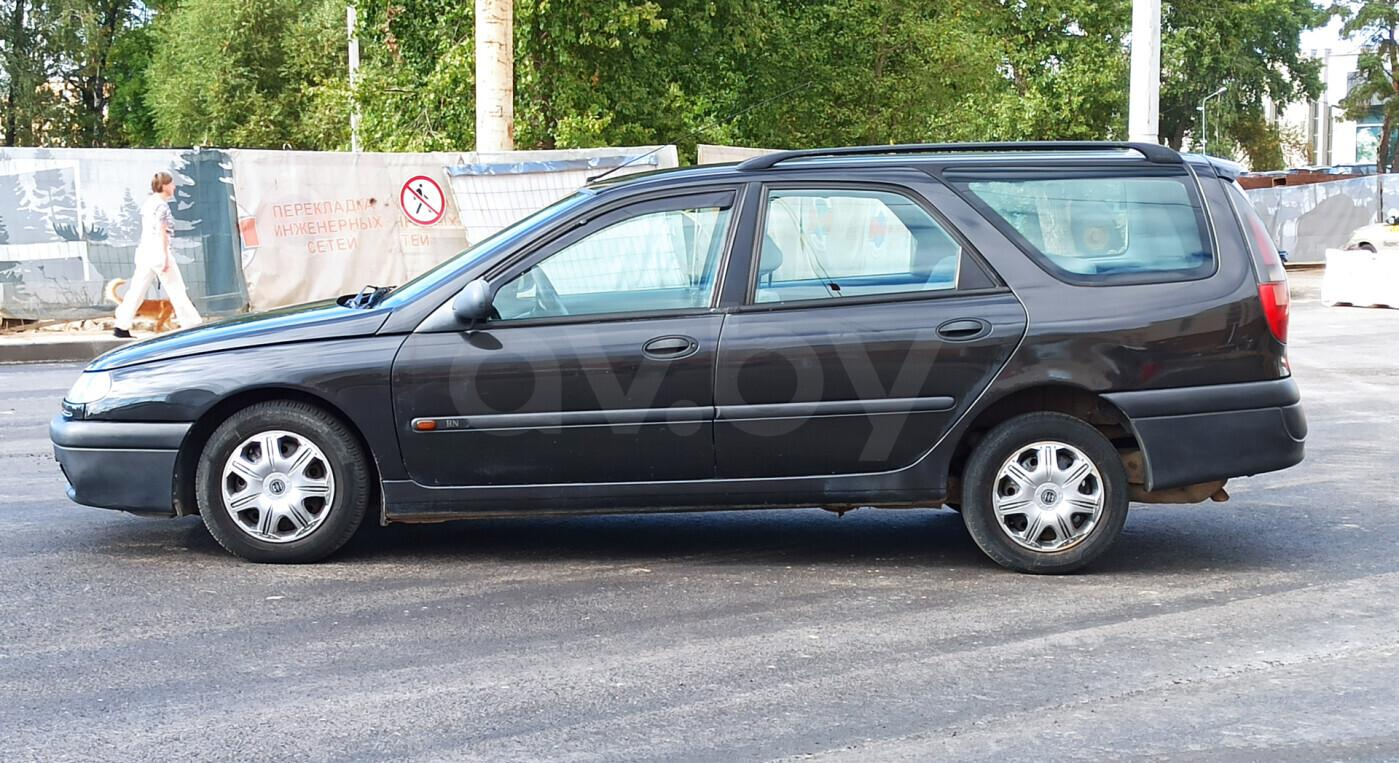Lahuna_1993-1999: (48, 133, 1317, 573)
